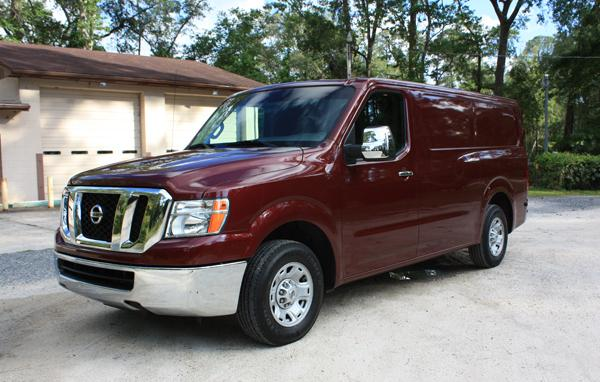car: (66, 62, 508, 328)
